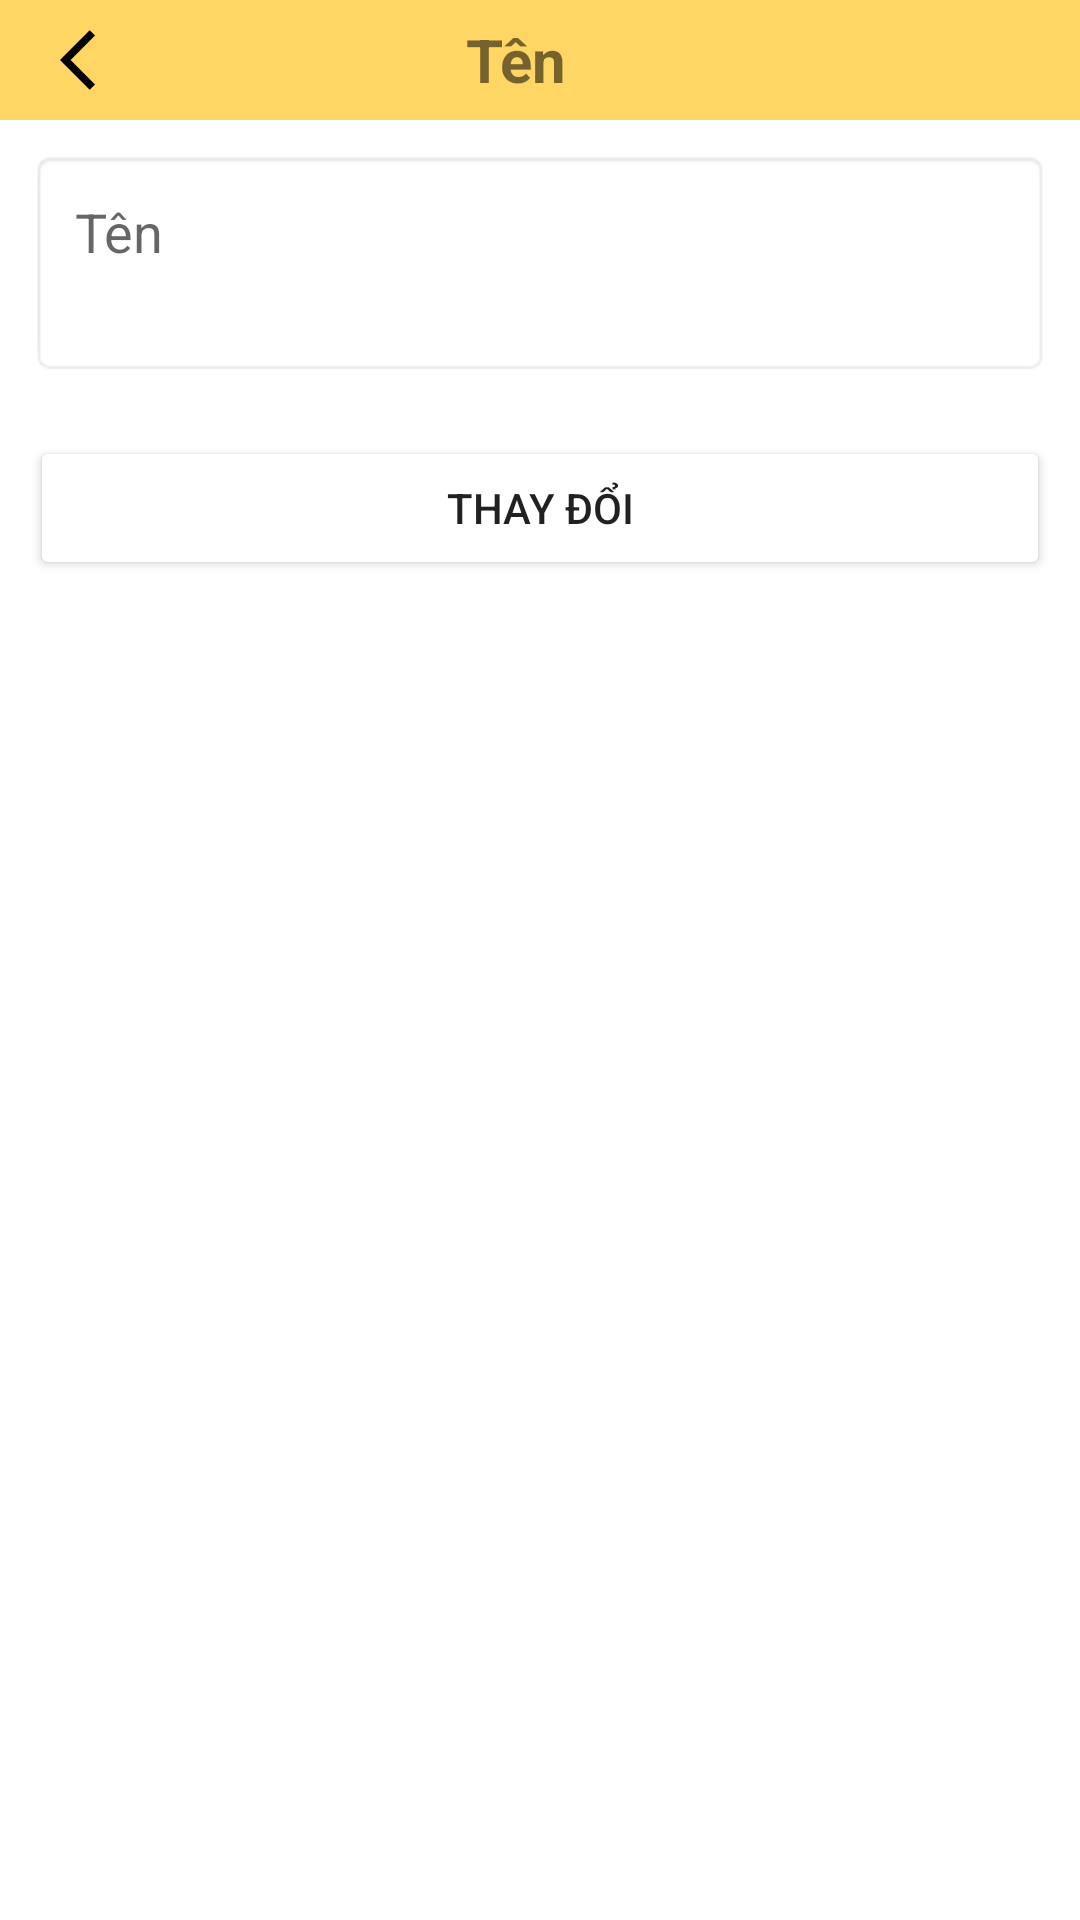

Named icons in this screenshot (1080px x 1920px) and their bounding boxes, region(x1, y1, x2, y2):
back: region(60, 30, 95, 90)
